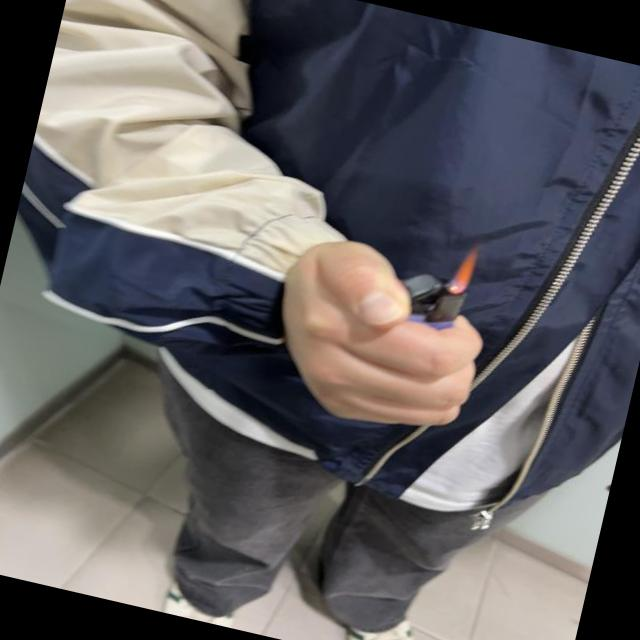Fire: (442, 238, 479, 296)
